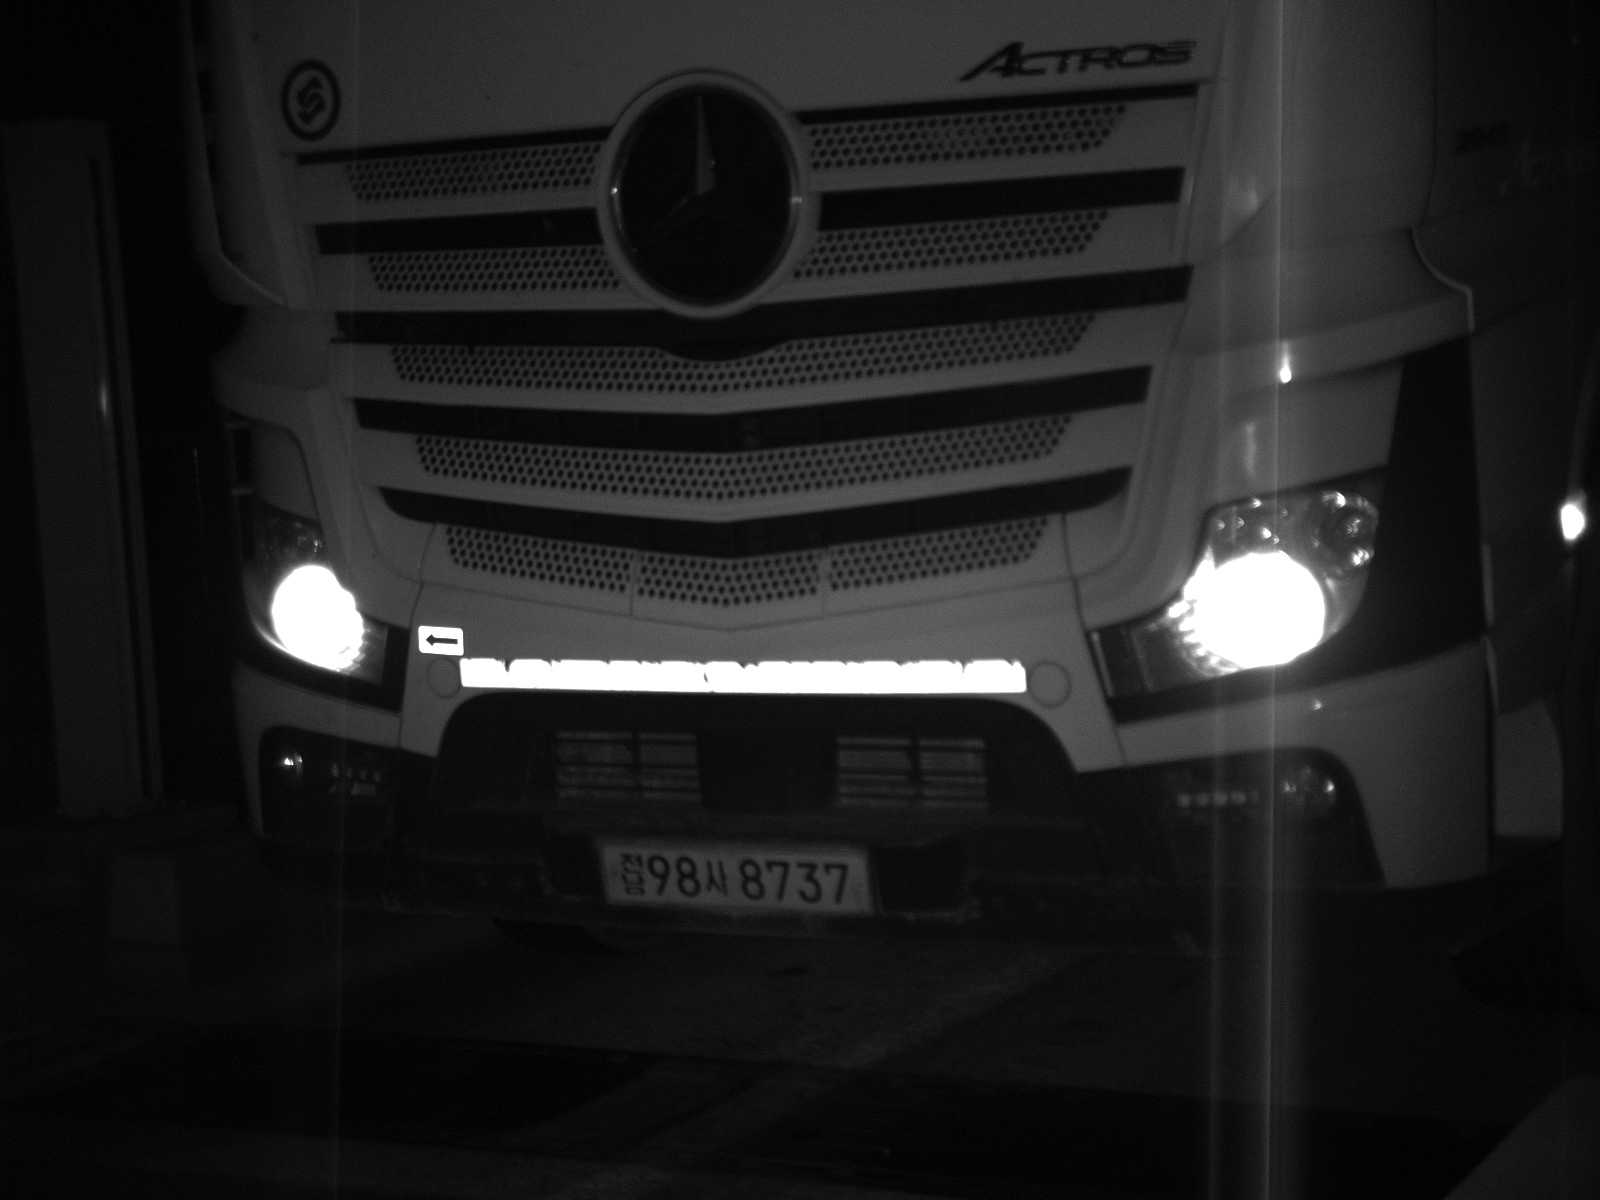car: (185, 1, 1594, 950)
plate: (595, 840, 879, 920)
